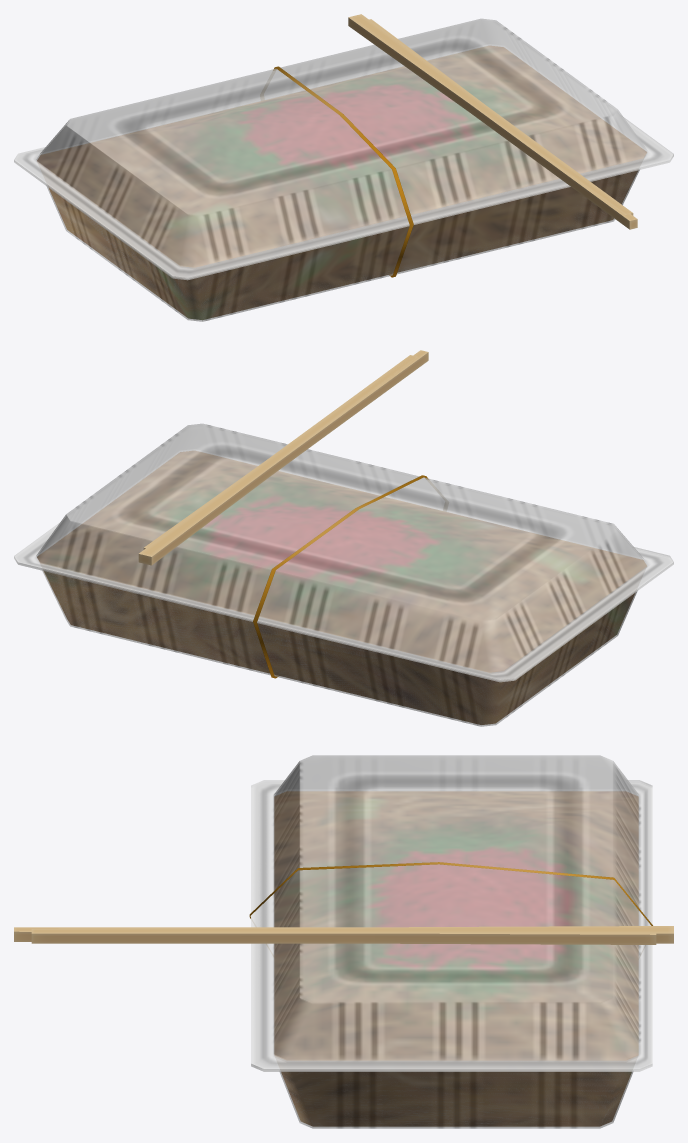
File: jsf_Pack_FriedNoodles_01.fbx
3 views of the same model, one above another, from view 1: azimuth 30°, elevation 25°; view 2: azimuth 150°, elevation 25°; view 3: azimuth 270°, elevation 25° (orthographic). The views are drawn at different scales.
Visible parts, largest first — view 1: Lid, FriedNoodles_01, Pack, DisposableChopsticks_01, DisposableChopsticks_02, RubberBand; view 2: FriedNoodles_01, Lid, Pack, DisposableChopsticks_01, DisposableChopsticks_02, RubberBand; view 3: Lid, FriedNoodles_01, Pack, DisposableChopsticks_01, DisposableChopsticks_02, RubberBand.
Part boxes in pixels (x1,y1,x2,y2): Lid: [14, 18, 673, 278]; FriedNoodles_01: [37, 46, 646, 320]; Pack: [14, 120, 673, 321]; DisposableChopsticks_01: [348, 14, 633, 215]; DisposableChopsticks_02: [360, 19, 637, 229]; RubberBand: [273, 66, 413, 277]; FriedNoodles_01: [37, 451, 646, 724]; Lid: [14, 423, 673, 680]; Pack: [14, 525, 673, 726]; DisposableChopsticks_01: [138, 355, 417, 565]; DisposableChopsticks_02: [143, 350, 428, 549]; RubberBand: [253, 475, 428, 678]; Lid: [251, 755, 652, 1070]; FriedNoodles_01: [274, 791, 638, 1126]; Pack: [251, 781, 652, 1128]; DisposableChopsticks_01: [31, 926, 673, 943]; DisposableChopsticks_02: [14, 927, 656, 944]; RubberBand: [249, 862, 652, 925].
Size of the model in its own units: 21.3 by 4.75 by 20.55.
